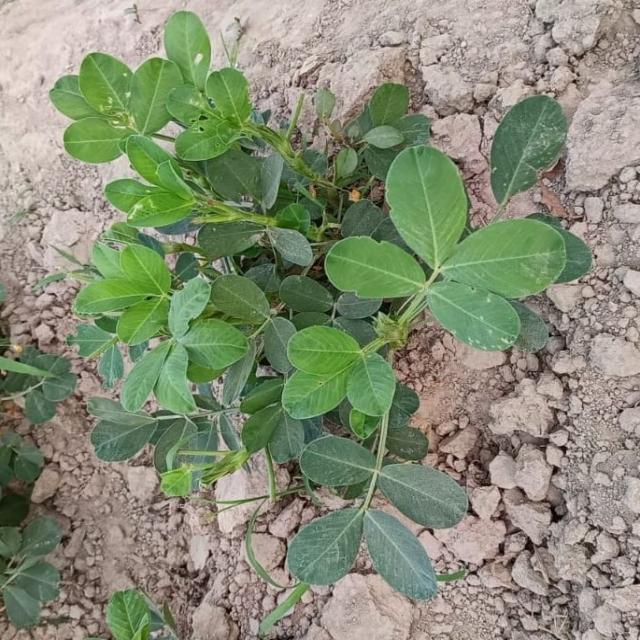plant: (49, 11, 591, 633)
